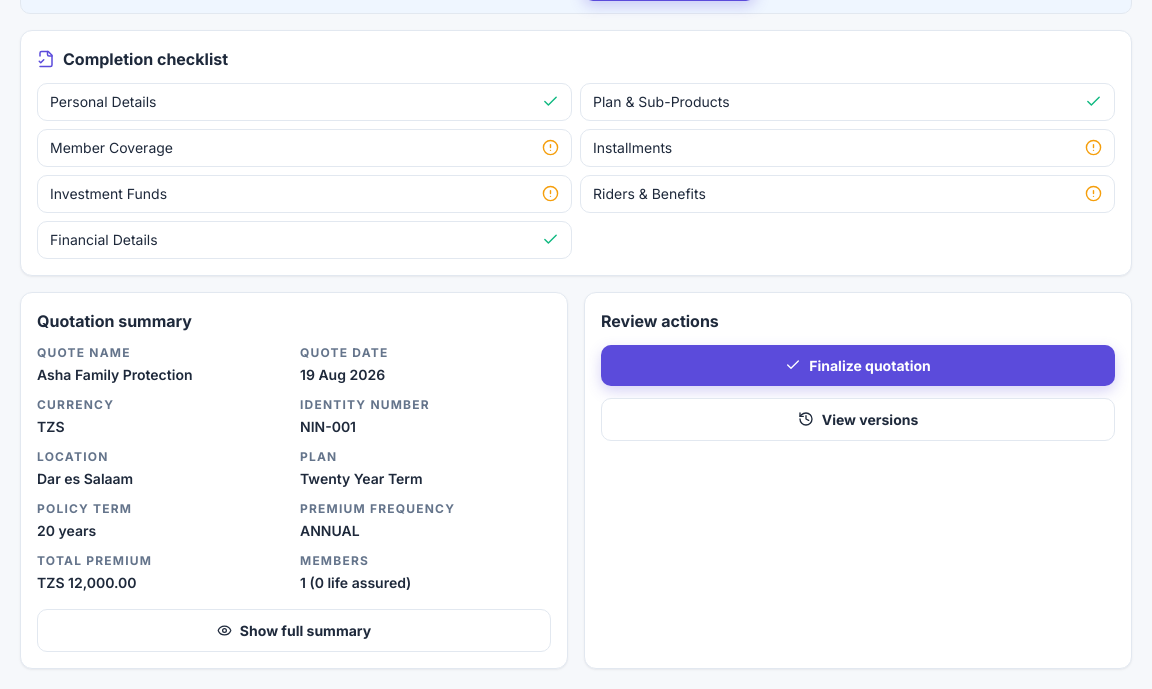
it: OL quotation detail lifecycle › finalize action calls the finalize endpoint
Later steps or results of the test are not shown.
(page scrolled)
Click the button "Finalize quotation". click: point(858, 365)
box: [601, 345, 1115, 386]
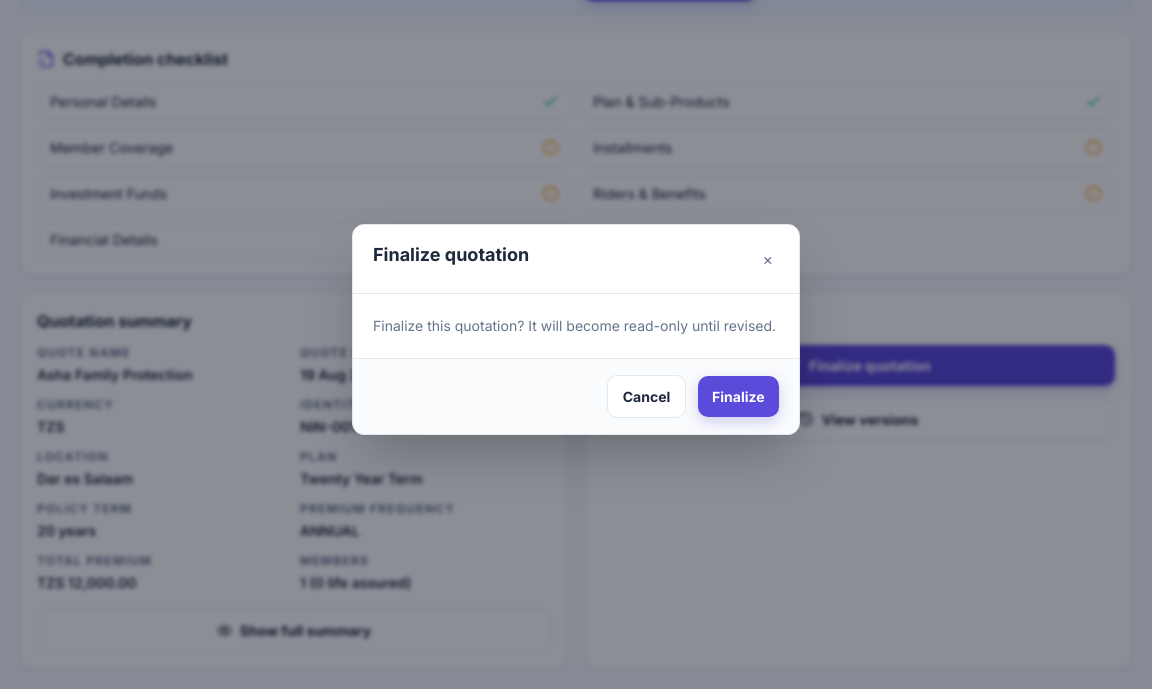
Check: the heading "Finalize quotation" is shown, box [373, 240, 529, 268]
